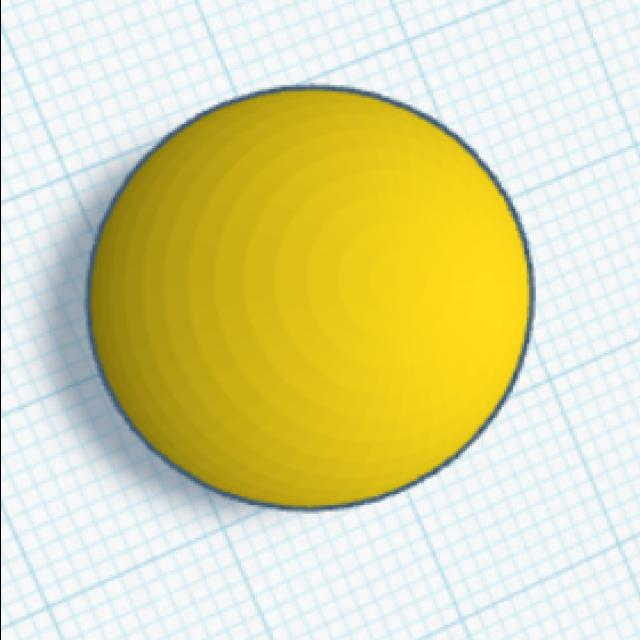sphere: (80, 79, 538, 516)
